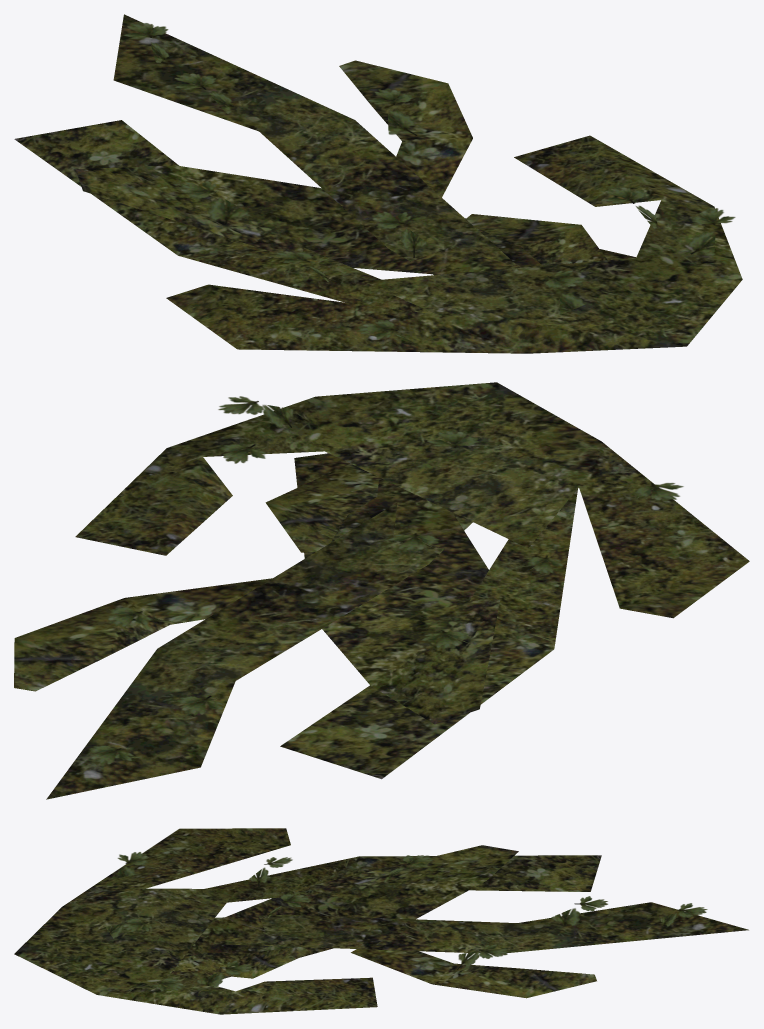
The model's file is moss1.glb.
3 renders of one model, top to bottom at view 1: azimuth 30°, elevation 25°; view 2: azimuth 150°, elevation 25°; view 3: azimuth 270°, elevation 25°, orthographic. The views are drawn at different scales.
Parts seen in each view (by area): view 1: ivy_beech_forest_01_2_LOD1.001; view 2: ivy_beech_forest_01_2_LOD1.001; view 3: ivy_beech_forest_01_2_LOD1.001.
Boxes of the visible parts, left/top/right/bottom form: ivy_beech_forest_01_2_LOD1.001: left=14, top=14, right=742, bottom=353; ivy_beech_forest_01_2_LOD1.001: left=14, top=382, right=749, bottom=799; ivy_beech_forest_01_2_LOD1.001: left=14, top=828, right=748, bottom=1014.
Size of the model in its own units: 2.49 by 0.1956 by 4.16.
Materials: 1 (1 with a texture image).
